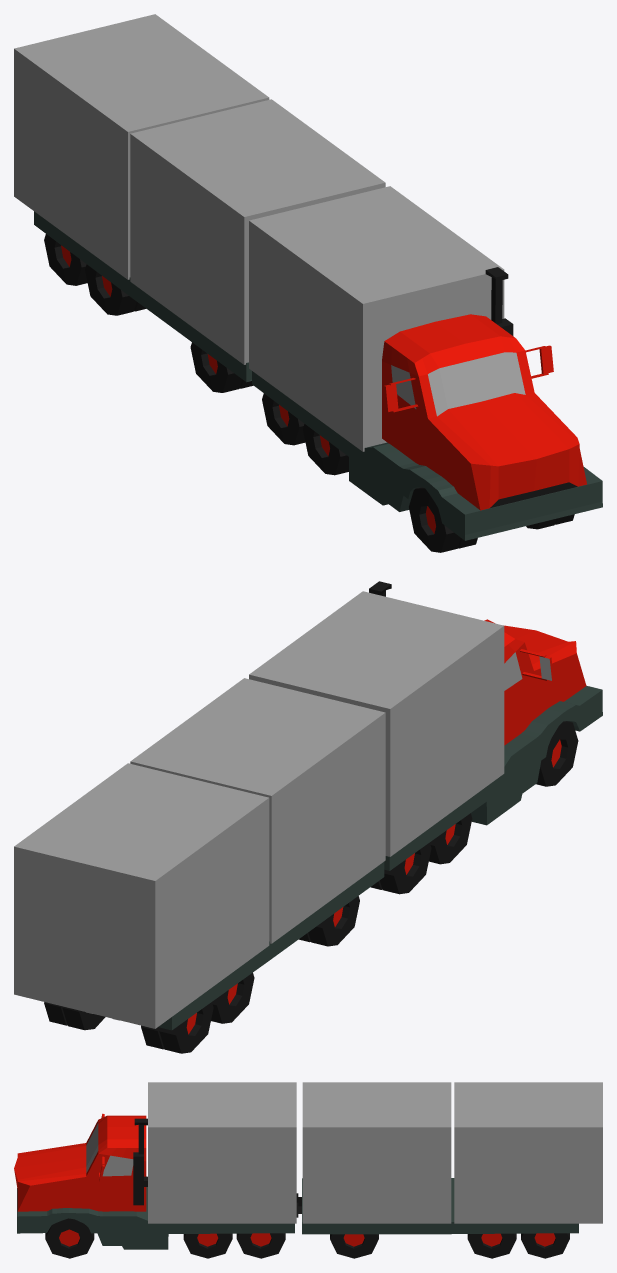
The model's file is truck.fbx.
The picture shows the model from 3 angles, top to bottom: view 1: azimuth 30°, elevation 25°; view 2: azimuth 150°, elevation 25°; view 3: azimuth 270°, elevation 25°; orthographic projection. The views are drawn at different scales.
Visible parts, largest first — view 1: truck; view 2: truck; view 3: truck.
Boxes of the visible parts, bbox=[...] form: truck: bbox=[14, 14, 602, 552]; truck: bbox=[14, 581, 602, 1053]; truck: bbox=[14, 1082, 602, 1258].
Size of the model in its own units: 1098 by 1329 by 5184.
